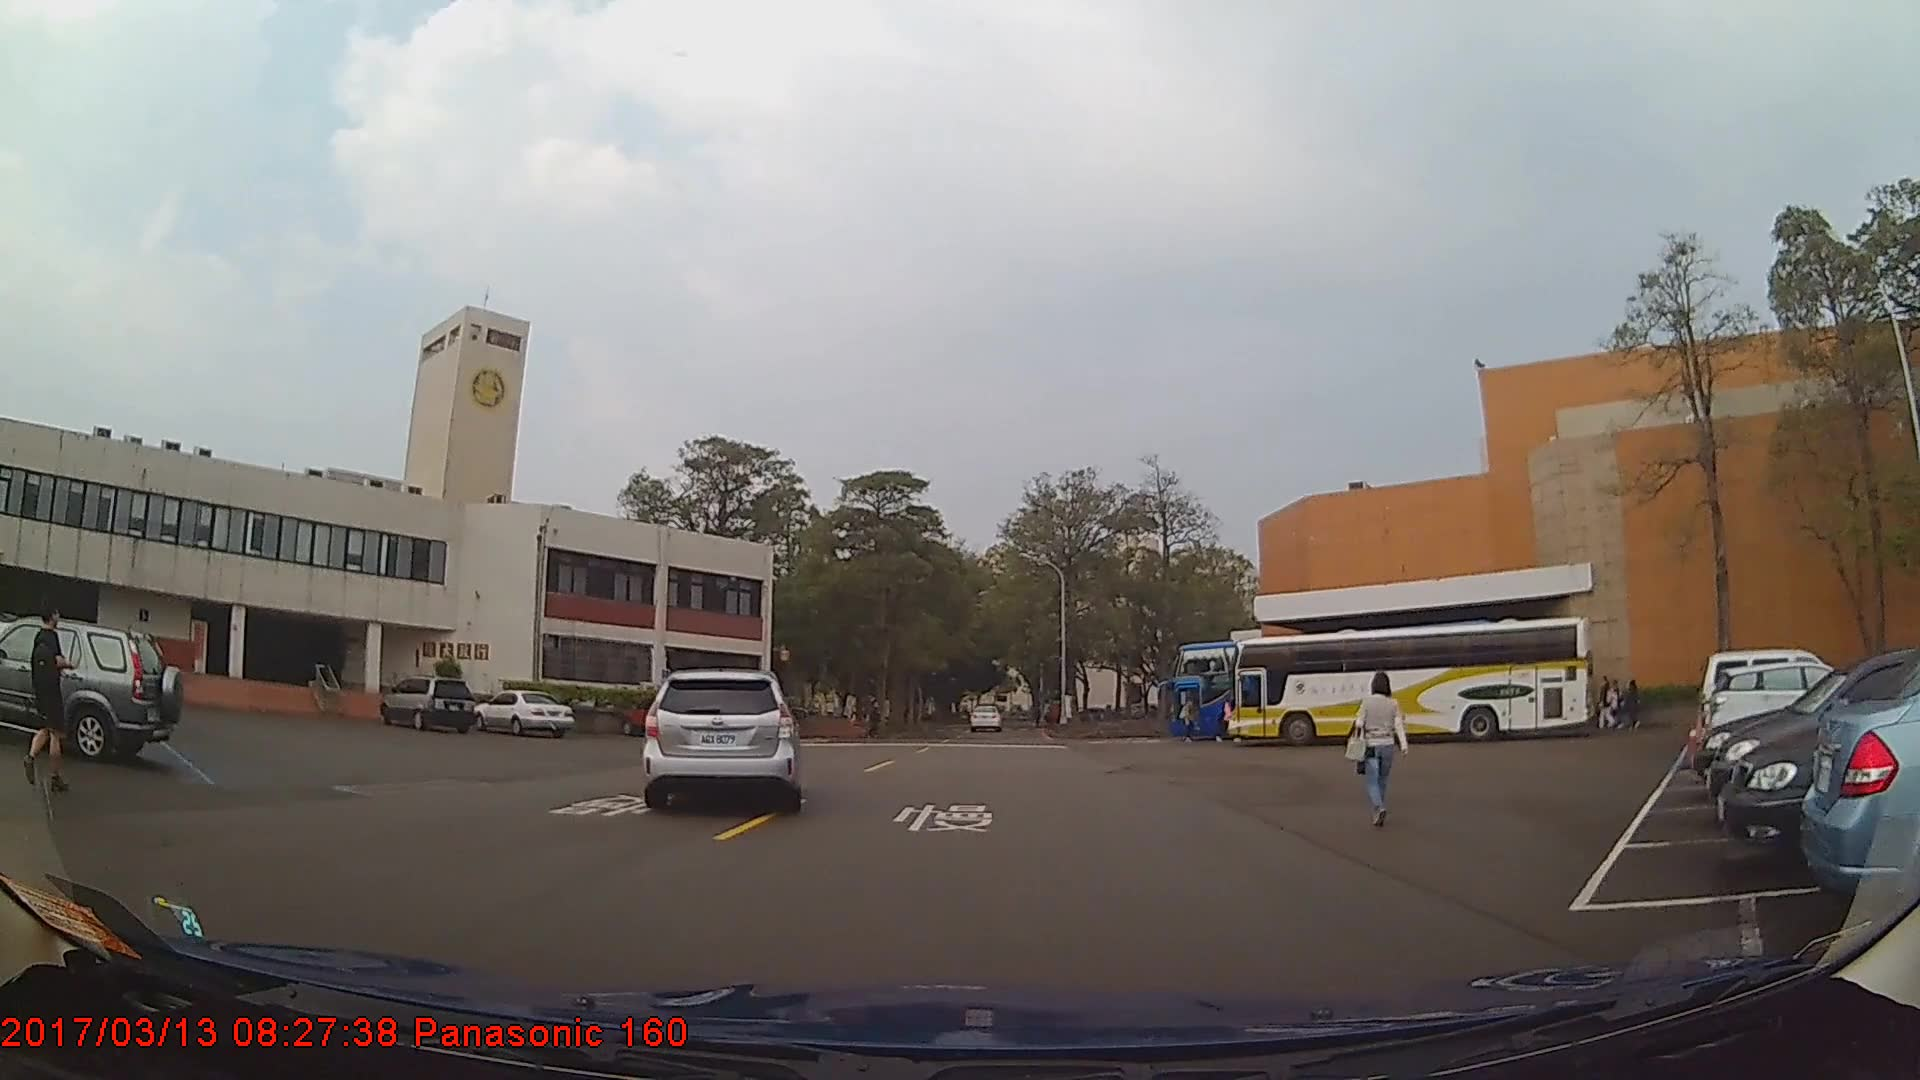pedestrian: (25, 600, 75, 795), (1349, 663, 1405, 823), (1619, 668, 1649, 731)
vehicle: (1224, 615, 1592, 747), (1705, 648, 1920, 828), (1798, 638, 1920, 921), (1164, 639, 1469, 738), (1, 614, 181, 762), (644, 663, 796, 809), (1707, 658, 1879, 748), (378, 673, 476, 729), (470, 686, 575, 734), (970, 705, 1001, 733)
